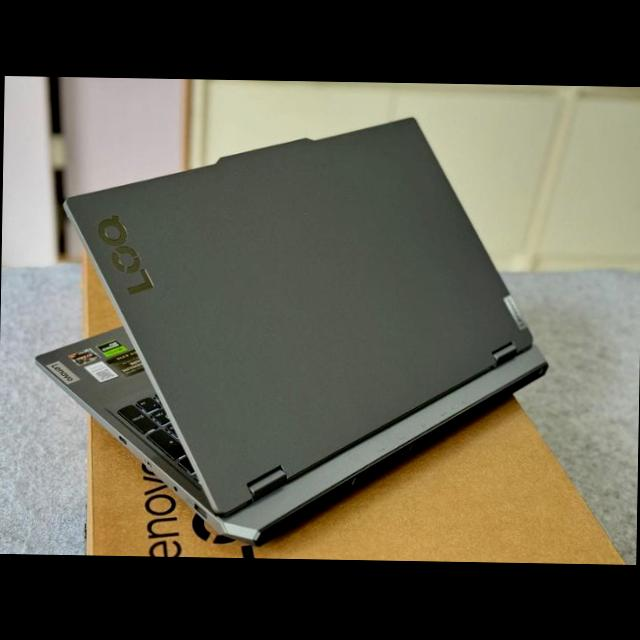laptop: (25, 108, 548, 551)
